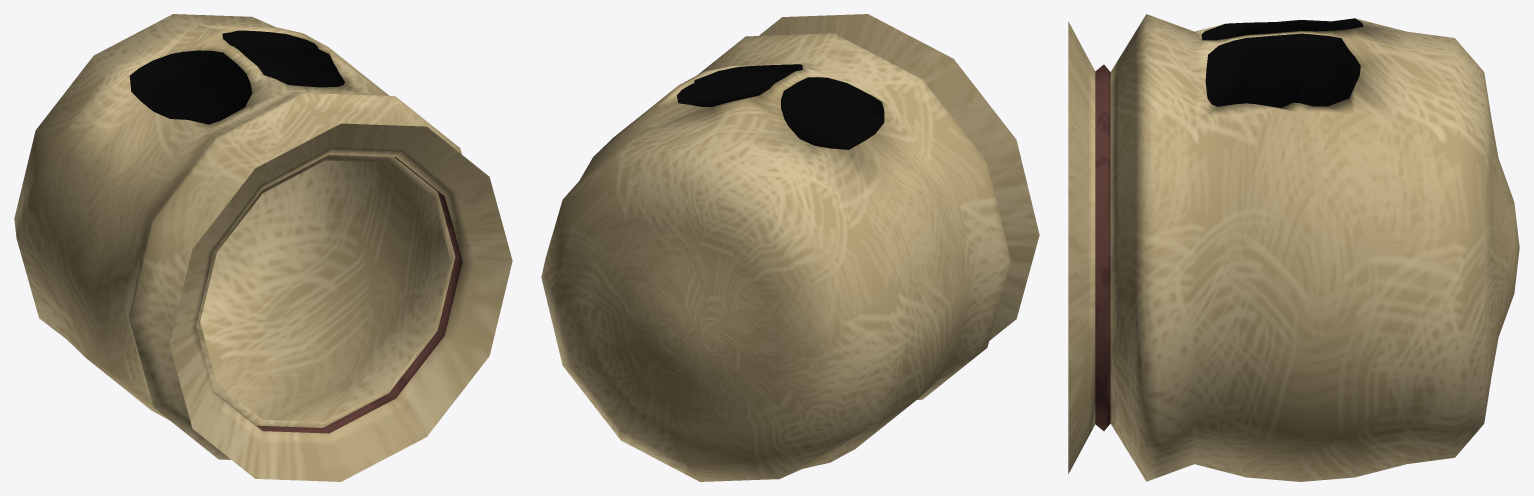
The model's file is item-scarecrow-mask.glb.
The picture shows the model from 3 angles, left to right: view 1: azimuth 30°, elevation 25°; view 2: azimuth 150°, elevation 25°; view 3: azimuth 270°, elevation 25°; orthographic projection. The views are drawn at different scales.
Size of the model in its own units: 0.0437 by 0.0436 by 0.0419.
3 materials, 2 textured.
